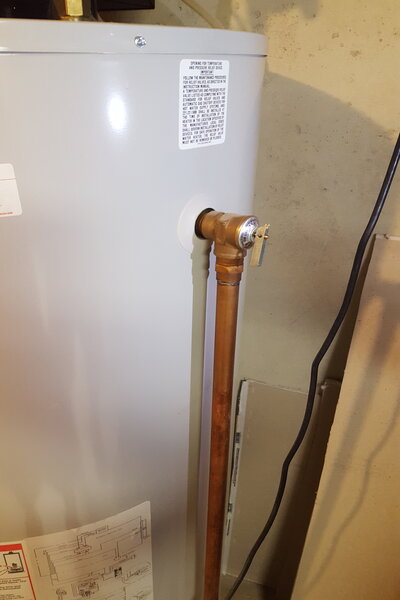valve: (194, 208, 272, 293)
